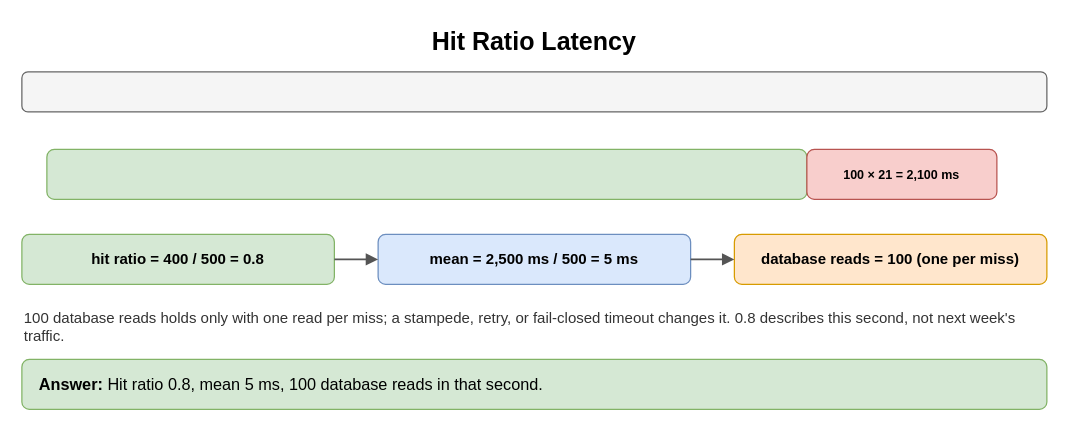
The diagram is 1069 pixels wide and 431 high, and some of its shapes have lost their labels. The shapes that lost their labels are listed below. From the top down, each one's centre as x and y in pixels, then its label:
At point (534, 91): "One second: 400 hits at 1 ms, 100 misses at 21 ms (both measured at the caller)".
At point (426, 173): "400 hits × 1 ms = 400 ms".
